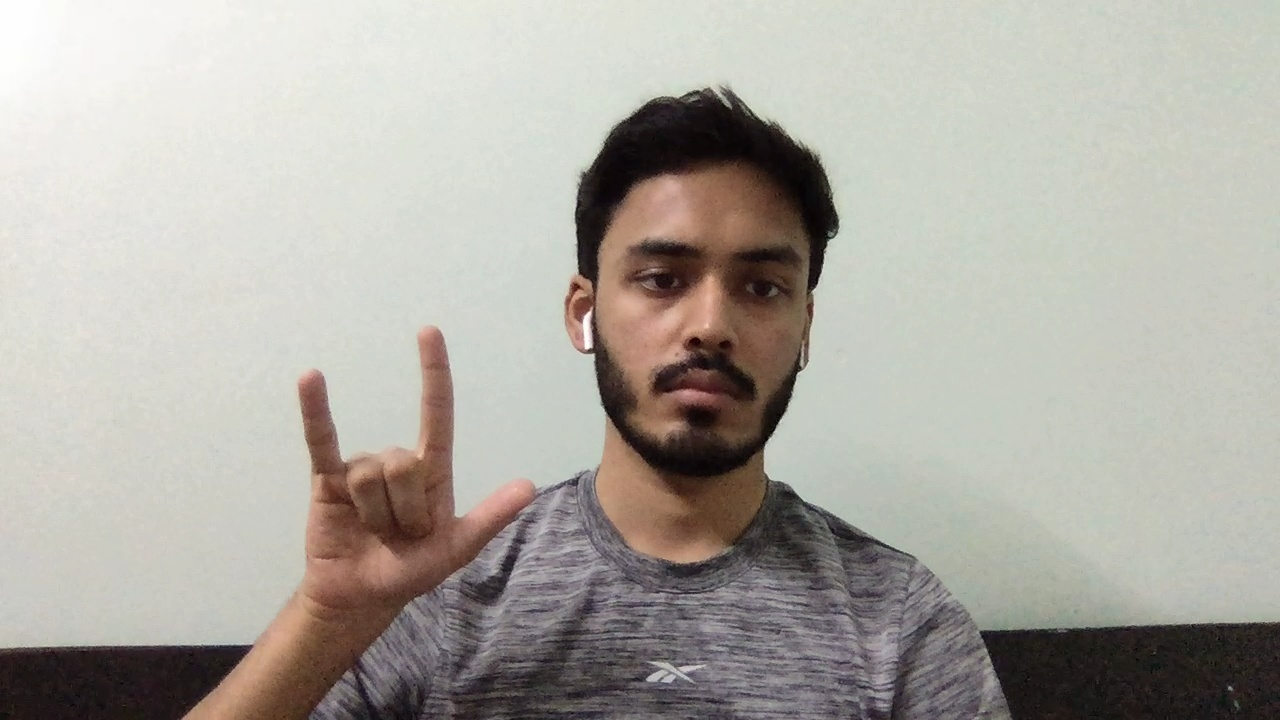I Love You: (276, 317, 540, 627)
